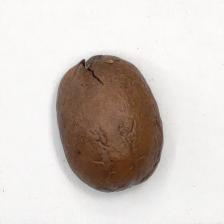NG: (73, 54, 120, 87)
